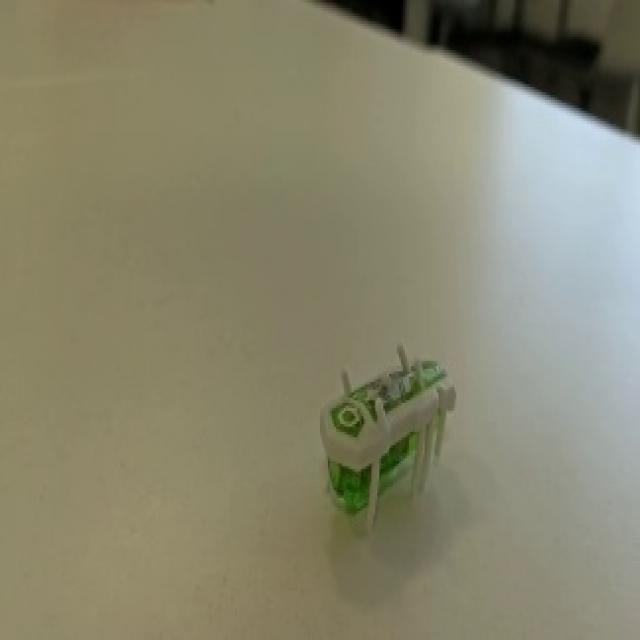4_NanoBug_Blanco: (288, 324, 532, 580)
